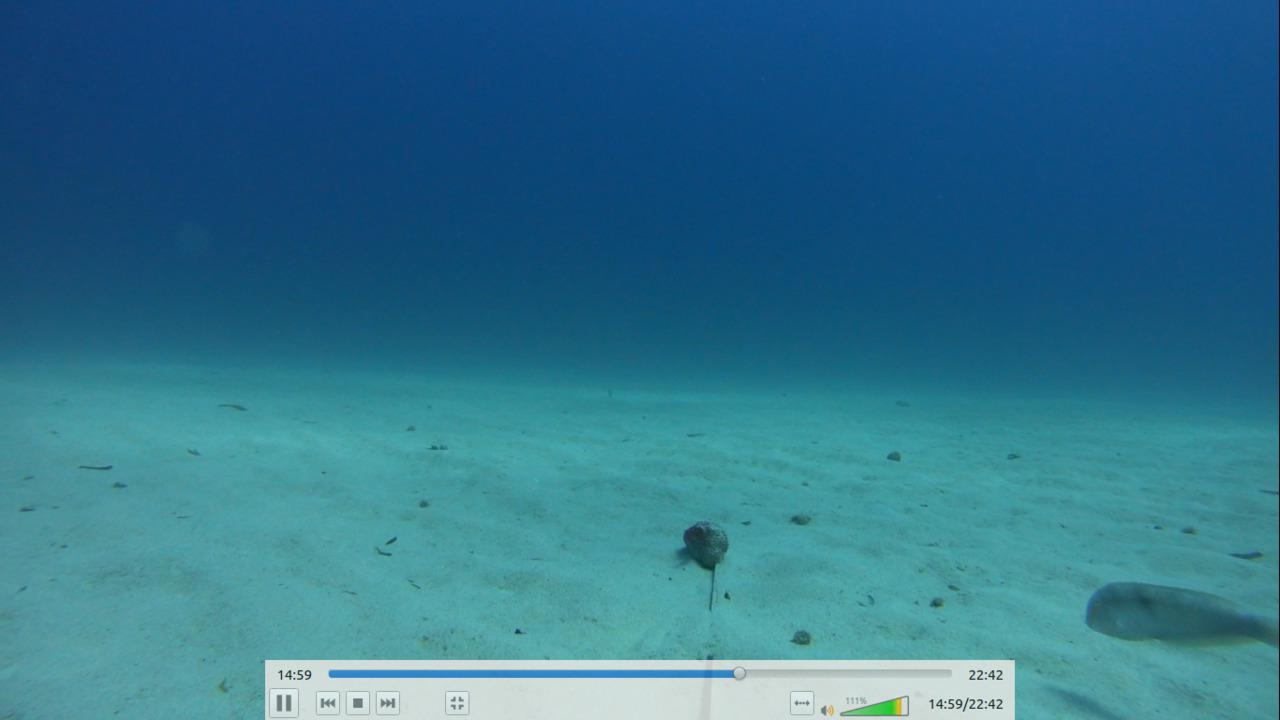raor: (1076, 575, 1276, 651)
